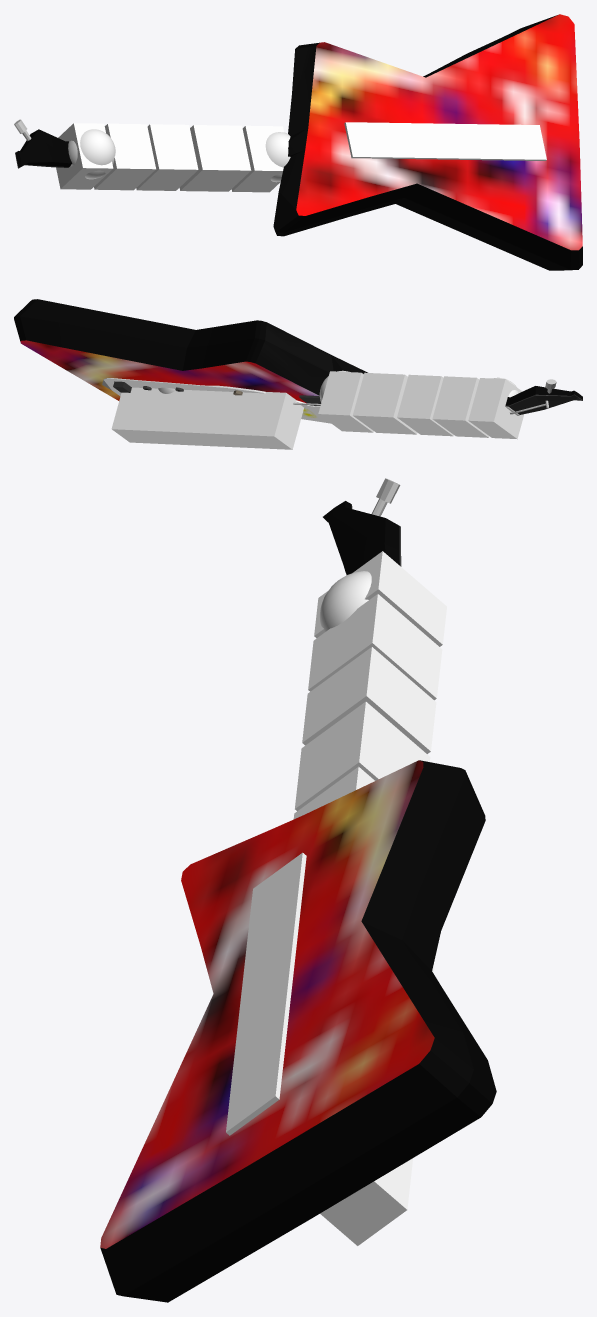
Rendered from ElectricGuitarAnchor.fbx.
3 renders of one model, top to bottom at view 1: azimuth 30°, elevation 25°; view 2: azimuth 150°, elevation 25°; view 3: azimuth 270°, elevation 25°, orthographic. The views are drawn at different scales.
Visible parts, largest first — view 1: ELECTRIC_GUITAR, StrumBar, Fret4, Fret3, Fret2, Fret5, Fret1, UnstickDistance, Center; view 2: ELECTRIC_GUITAR, StrumBar, Fret4, Fret1, Fret2, Fret3, Fret5; view 3: ELECTRIC_GUITAR, StrumBar, Fret3, Fret2, Fret4, Fret1, UnstickDistance, Fret5.
Boxes of the visible parts, x1,y1,x2,y2 form: ELECTRIC_GUITAR: [14, 14, 582, 270]; StrumBar: [344, 122, 546, 160]; Fret4: [179, 125, 251, 191]; Fret3: [136, 124, 198, 190]; Fret2: [94, 123, 155, 190]; Fret5: [231, 125, 284, 192]; Fret1: [56, 123, 113, 189]; UnstickDistance: [68, 129, 115, 179]; Center: [265, 132, 290, 182]; ELECTRIC_GUITAR: [14, 299, 582, 423]; StrumBar: [111, 387, 303, 449]; Fret4: [352, 372, 417, 434]; Fret1: [468, 378, 524, 439]; Fret2: [432, 376, 489, 437]; Fret3: [397, 374, 453, 436]; Fret5: [318, 371, 373, 432]; ELECTRIC_GUITAR: [100, 478, 496, 1302]; StrumBar: [226, 852, 434, 1245]; Fret3: [302, 647, 436, 753]; Fret2: [308, 594, 442, 700]; Fret4: [295, 701, 430, 811]; Fret1: [314, 551, 446, 646]; UnstickDistance: [319, 571, 371, 631]; Fret5: [293, 766, 374, 819].
Size of the model in its own units: 66.5 by 23.68 by 21.27.
